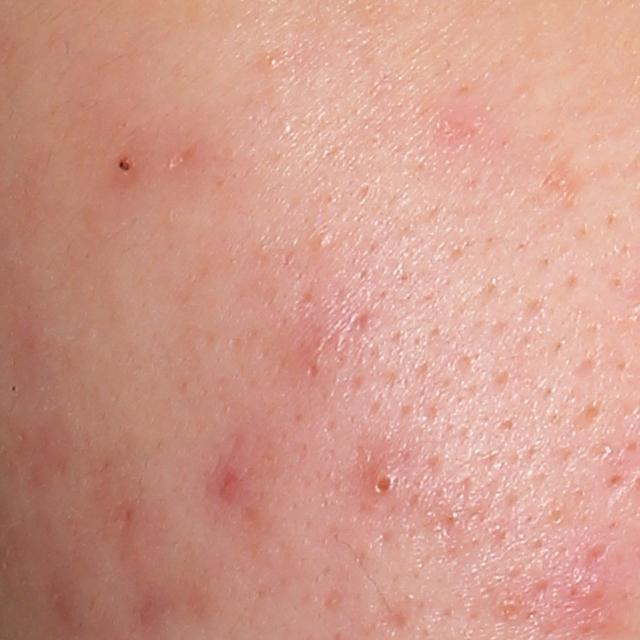atrophic_scar: (380, 600, 413, 636)
comedo: (314, 227, 336, 249), (262, 47, 279, 67)
other: (118, 157, 131, 173)
